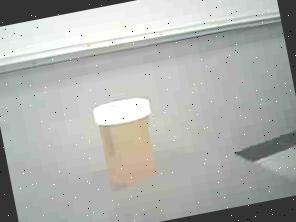Bottle B: (76, 85, 179, 199)
